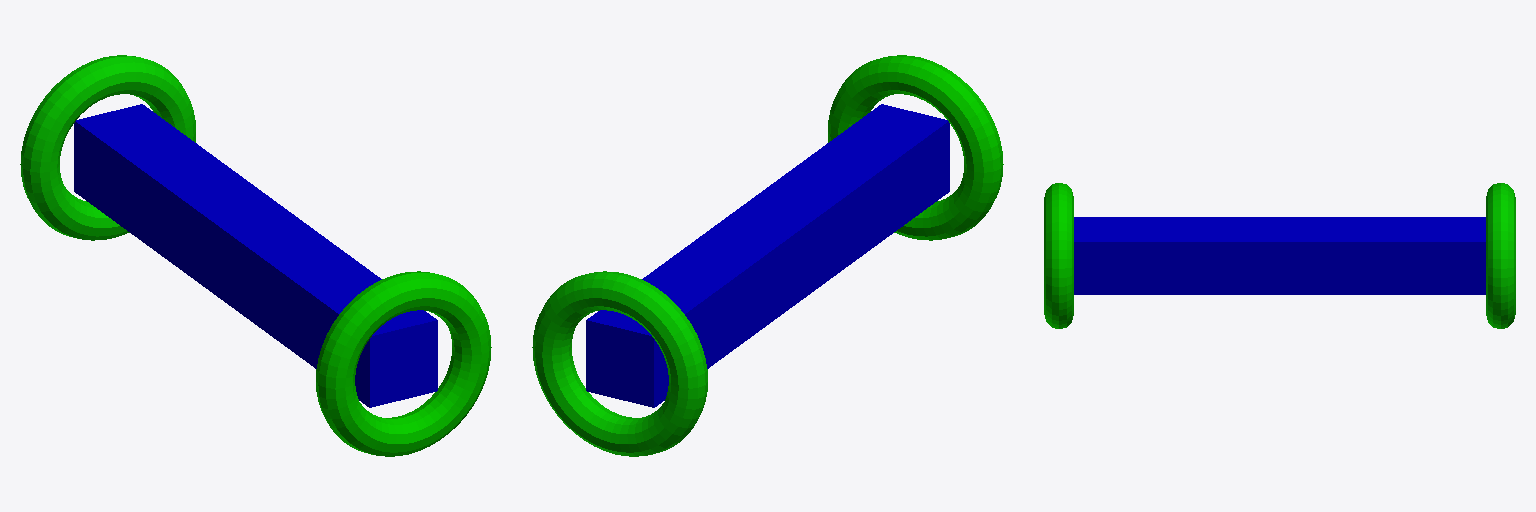
URDF robot description (robot_test):
<robot name="robot_test" version="1.0">
  <joint name="left_wheel_link_joint" type="continuous">
    <limit lower="0" upper="0" effort="0.00000" velocity="0.00000"/>
    <origin rpy="1.57080 0.00000 0.00000" xyz="0.00000 -0.75000 0.00000"/>
    <parent link="base_link"/>
    <child link="left_wheel_link"/>
    <axis xyz="0.00000 0.00000 1.00000"/>
  </joint>
  <joint name="right_wheel_link_joint" type="continuous">
    <limit lower="0" upper="0" effort="0.00000" velocity="0.00000"/>
    <origin rpy="1.57080 0.00000 0.00000" xyz="0.00000 0.75000 0.00000"/>
    <parent link="base_link"/>
    <child link="right_wheel_link"/>
    <axis xyz="0.00000 0.00000 1.00000"/>
  </joint>
  <link name="base_link">
    <collision name="base_collision">
      <origin rpy="1.57080 0.00000 0.00000" xyz="0.00000 0.00000 0.00000"/>
      <geometry>
        <box size="0.20000 0.20000 1.50000"/>
      </geometry>
    </collision>
    <inertial>
      <inertia ixx="1.14500" ixy="0.00000" ixz="0.00000" iyy="0.04000" iyz="-0.00000" izz="1.14500"/>
      <origin rpy="0.00000 0.00000 0.00000" xyz="0.00000 0.00000 0.00000"/>
      <mass value="6.00000"/>
    </inertial>
    <visual name="base">
      <origin rpy="1.57080 0.00000 0.00000" xyz="0.00000 0.00000 0.00000"/>
      <material name="Material"/>
      <geometry>
        <box size="0.20000 0.20000 1.50000"/>
      </geometry>
    </visual>
  </link>
  <link name="left_wheel_link">
    <collision name="left_wheel_collision">
      <origin rpy="0.00000 0.00000 0.00000" xyz="0.00000 0.00000 0.00000"/>
      <geometry>
        <mesh filename="../meshes/dae/Torus.dae" scale="0.20000 0.20000 0.20000"/>
      </geometry>
    </collision>
    <inertial>
      <inertia ixx="0.01513" ixy="0.00000" ixz="0.00000" iyy="0.02926" iyz="0.00000" izz="0.01513"/>
      <origin rpy="0.00000 0.00000 0.00000" xyz="0.00000 -0.00000 0.00000"/>
      <mass value="1.00000"/>
    </inertial>
    <visual name="left_wheel">
      <origin rpy="0.00000 0.00000 0.00000" xyz="0.00000 0.00000 0.00000"/>
      <material name="Material.002"/>
      <geometry>
        <mesh filename="../meshes/dae/Torus.dae" scale="0.20000 0.20000 0.20000"/>
      </geometry>
    </visual>
  </link>
  <link name="right_wheel_link">
    <collision name="right_wheel_collision">
      <origin rpy="0.00000 0.00000 0.00000" xyz="0.00000 0.00000 0.00000"/>
      <geometry>
        <mesh filename="../meshes/dae/Torus.001.dae" scale="0.20000 0.20000 0.20000"/>
      </geometry>
    </collision>
    <inertial>
      <inertia ixx="0.01513" ixy="0.00000" ixz="0.00000" iyy="0.02926" iyz="0.00000" izz="0.01513"/>
      <origin rpy="0.00000 0.00000 0.00000" xyz="0.00000 0.00000 0.00000"/>
      <mass value="1.00000"/>
    </inertial>
    <visual name="right_wheel">
      <origin rpy="-3.14159 0.00000 0.00000" xyz="0.00000 0.00000 0.00000"/>
      <material name="Material.001"/>
      <geometry>
        <mesh filename="../meshes/dae/Torus.001.dae" scale="0.20000 0.20000 0.20000"/>
      </geometry>
    </visual>
  </link>
  <material name="Material">
    <color rgba="0.01176 0.00000 0.80000 1.00000"/>
  </material>
  <material name="Material.001">
    <color rgba="0.05490 0.80000 0.02353 1.00000"/>
  </material>
  <material name="Material.002">
    <color rgba="0.04706 0.80000 0.00000 1.00000"/>
  </material>
</robot>

--- Facts derived from the render (not from the file) ---
3 views of the same robot in one strip: view 1: azimuth 30°, elevation 25°; view 2: azimuth 150°, elevation 25°; view 3: azimuth 270°, elevation 25° (orthographic).
Model robot_test with 3 links and 2 joints (2 continuous), rooted at base_link, posed every joint at zero.
Links seen in each view (by area): view 1: base_link, left_wheel_link, right_wheel_link; view 2: base_link, right_wheel_link, left_wheel_link; view 3: base_link, left_wheel_link, right_wheel_link.
Link boxes in pixels (x1=…): base_link: x1=74, y1=104, x2=437, y2=407; left_wheel_link: x1=316, y1=271, x2=491, y2=456; right_wheel_link: x1=20, y1=55, x2=195, y2=240; base_link: x1=586, y1=104, x2=949, y2=407; right_wheel_link: x1=532, y1=271, x2=707, y2=456; left_wheel_link: x1=828, y1=55, x2=1003, y2=240; base_link: x1=1074, y1=217, x2=1485, y2=294; left_wheel_link: x1=1044, y1=183, x2=1073, y2=328; right_wheel_link: x1=1486, y1=183, x2=1515, y2=328.
Size in the robot's own frame: 0.5 by 1.6 by 0.5 metres.
Meshes: 2 distinct files referenced, 2 mesh visuals loaded (2 Collada DAE).